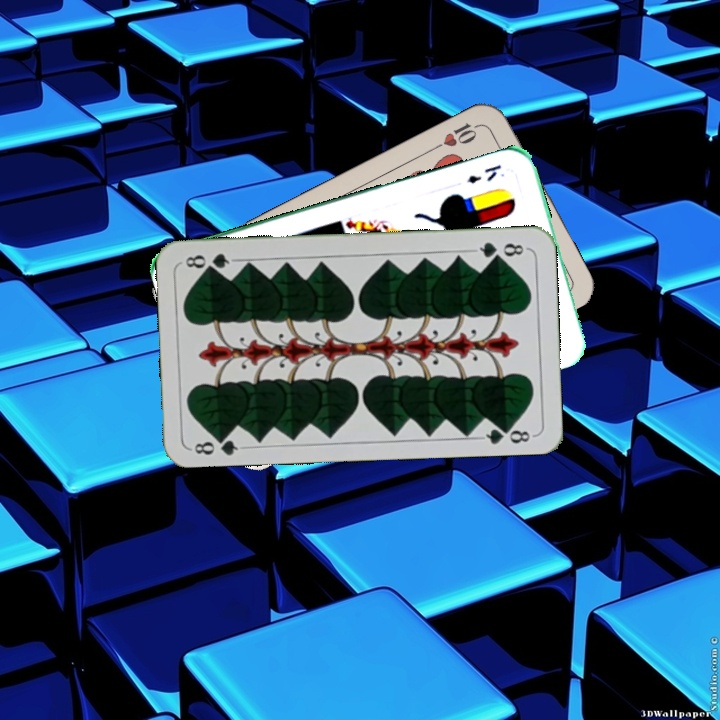EK: (463, 160, 504, 187)
G8: (188, 430, 247, 458), (470, 238, 530, 262)
H10: (430, 118, 485, 153)
